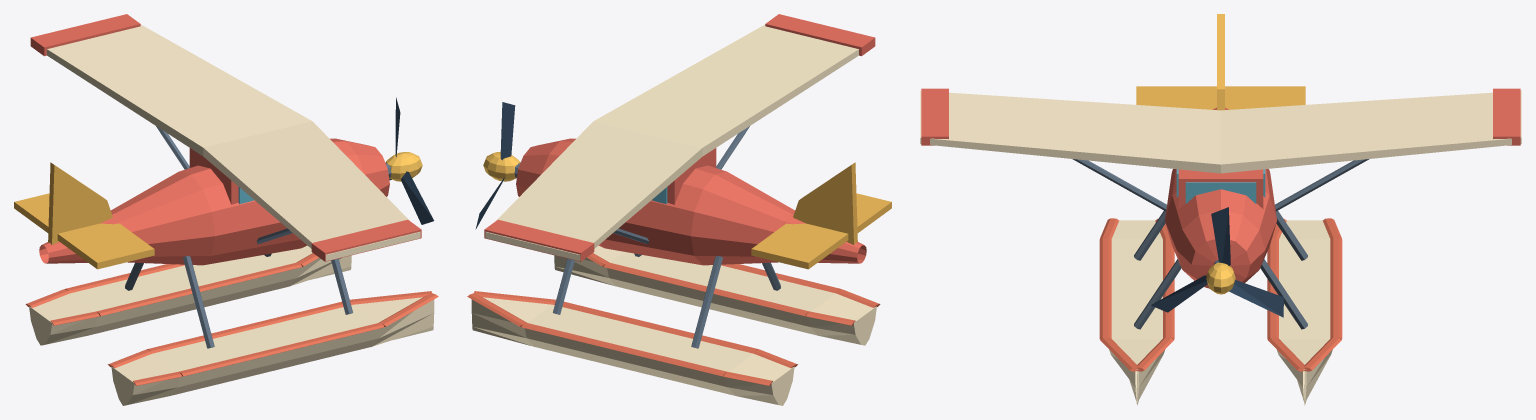
Rendered from boat-seaplane.glb.
3 renders of one model, left to right at view 1: azimuth 30°, elevation 25°; view 2: azimuth 150°, elevation 25°; view 3: azimuth 270°, elevation 25°, orthographic.
Parts seen in each view (by area): view 1: wing, float, fuselage, float_stripe, tail, wing_tip, strut, propeller, spinner; view 2: wing, float, fuselage, float_stripe, tail, wing_tip, strut, propeller, spinner; view 3: wing, float, fuselage, float_stripe, tail, strut, wing_tip, propeller, window, spinner.
Part boxes in pixels (x1,y1,x2,y2): wing: (47, 24, 420, 260); float: (29, 245, 434, 405); fuselage: (39, 138, 389, 265); float_stripe: (25, 253, 438, 385); tail: (14, 162, 154, 269); wing_tip: (30, 14, 421, 261); strut: (125, 126, 391, 348); propeller: (389, 97, 433, 224); spinner: (385, 152, 422, 181); wing: (485, 24, 858, 260); float: (471, 245, 876, 405); fuselage: (516, 138, 866, 265); float_stripe: (467, 253, 880, 385); tail: (751, 162, 891, 269); wing_tip: (484, 14, 875, 261); strut: (514, 126, 780, 348); propeller: (475, 102, 520, 229); spinner: (483, 152, 520, 181); wing: (920, 90, 1521, 173); float: (1109, 220, 1332, 405); fuselage: (1165, 107, 1276, 288); float_stripe: (1099, 218, 1342, 371); tail: (1136, 14, 1305, 110); strut: (1072, 159, 1369, 329); wing_tip: (921, 88, 1520, 145); propeller: (1151, 207, 1283, 317); window: (1176, 169, 1265, 203); spinner: (1206, 262, 1235, 294).
Bounding box in the file's own units: 4.5 × 2.5 × 6.1.
